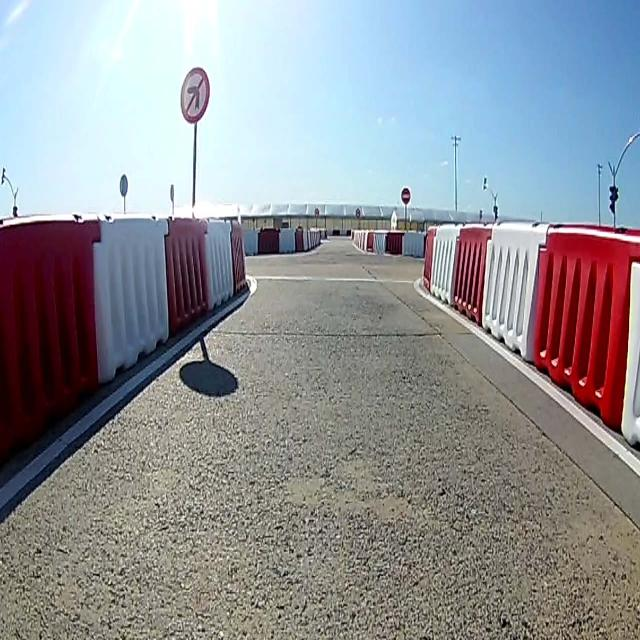girisyok: (400, 184, 410, 206)
soladonulmez: (180, 66, 209, 125)
